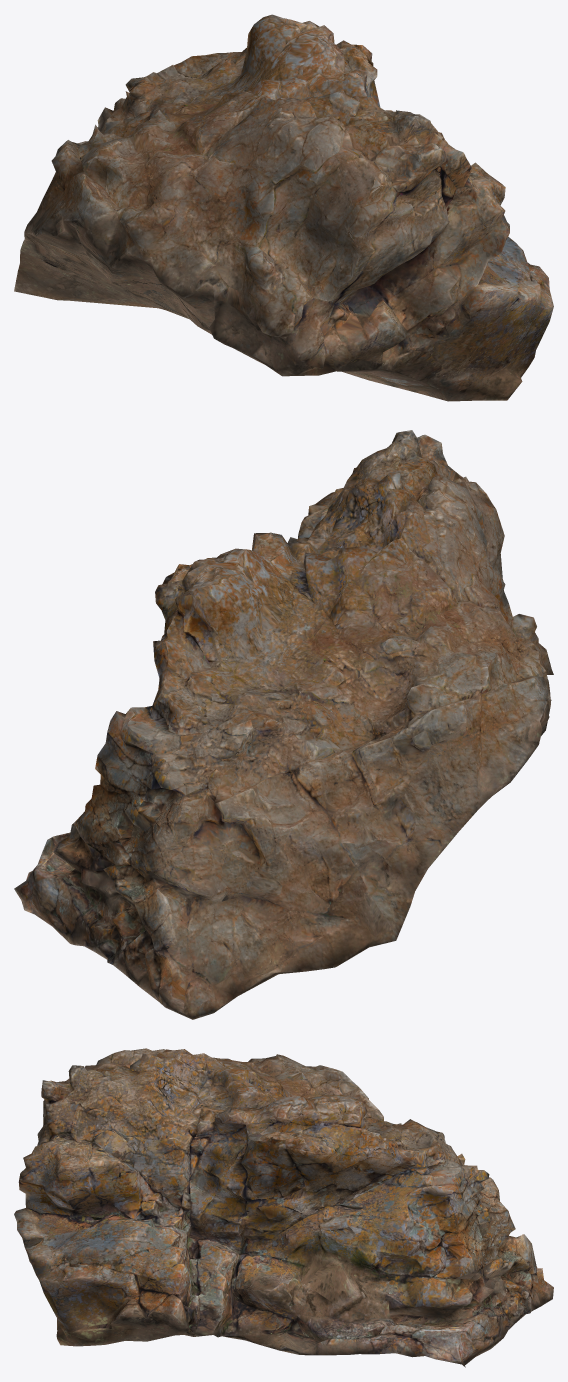
Rendered from Scan_Boulder.fbx.
3 views of the same model, one above another, from view 1: azimuth 30°, elevation 25°; view 2: azimuth 150°, elevation 25°; view 3: azimuth 270°, elevation 25° (orthographic). The views are drawn at different scales.
Parts seen in each view (by area): view 1: Scan_Boulder_LOD0; view 2: Scan_Boulder_LOD0; view 3: Scan_Boulder_LOD0.
Part boxes in pixels (x1,y1,x2,y2): Scan_Boulder_LOD0: [14, 14, 553, 401]; Scan_Boulder_LOD0: [14, 430, 553, 1019]; Scan_Boulder_LOD0: [14, 1048, 553, 1367].
Size of what is drawn, in the model's own units: 1.28 by 1 by 1.83.
